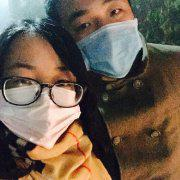OK: (1, 61, 82, 148), (68, 1, 145, 78)
